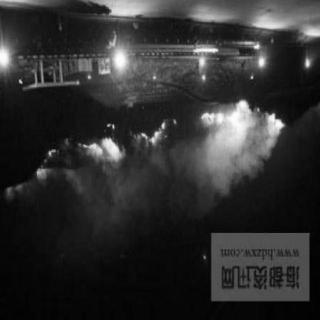Fire: (193, 99, 285, 146)
Smoke: (160, 127, 280, 204)
other: (108, 48, 136, 72)
